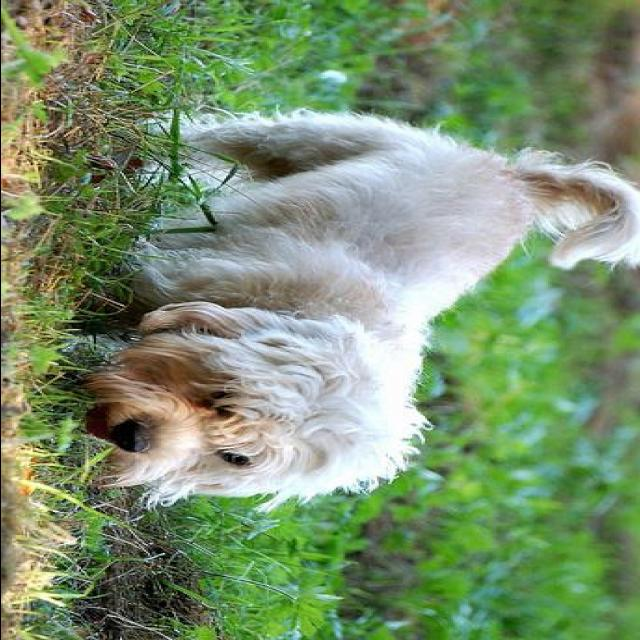dandie_dinmont: (90, 105, 640, 507)
